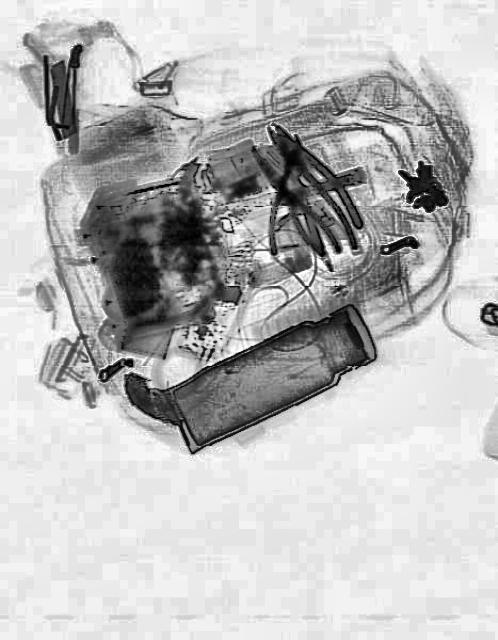Pliers: (247, 101, 367, 261), (245, 122, 357, 274)
